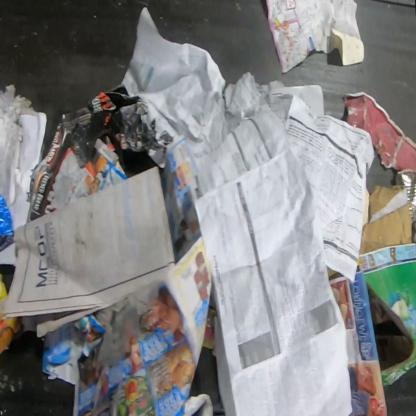cardboard: (342, 90, 415, 173), (40, 313, 108, 386), (359, 184, 413, 256)
metal: (395, 169, 415, 224), (0, 192, 15, 237)
